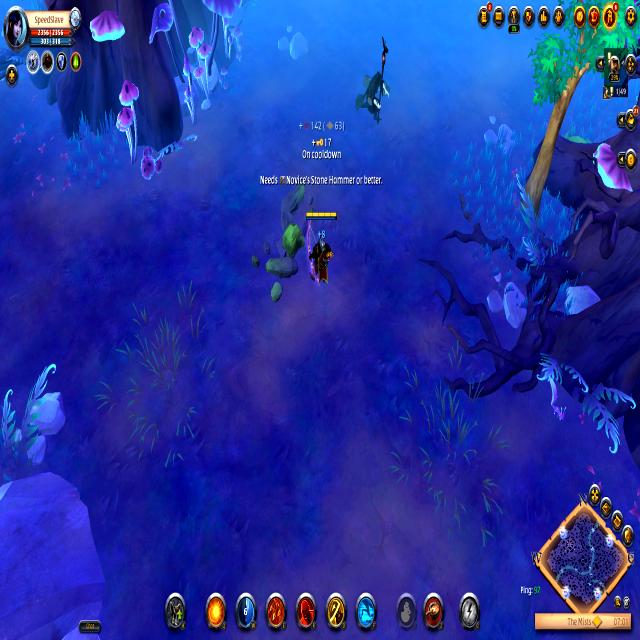ore: (356, 30, 396, 123)
red: (302, 204, 340, 294)
wisp caged: (516, 0, 639, 228)
